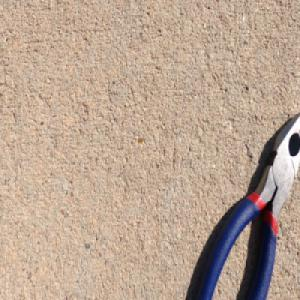Pliers: (193, 109, 300, 300)
